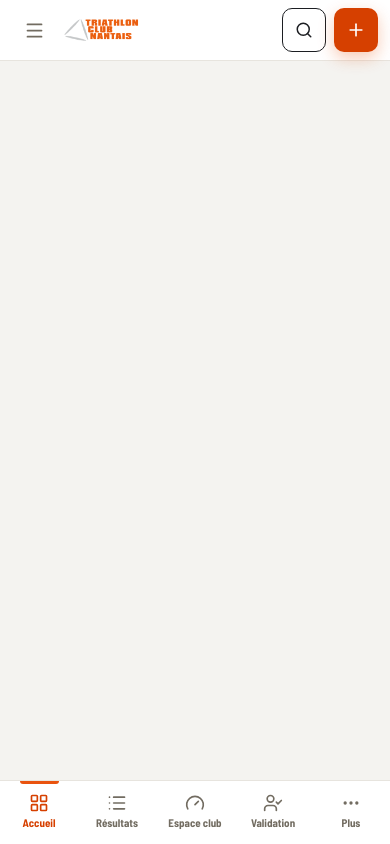
Test: AppNav — actions primaires › ne porte plus de carte d'athlète, ni au rail ni au tiroir, même athlète retenu et compte rattaché (#1828)
Expected: the text "Jean" is not shown
Click the button named "Ouvrir le menu" at (34,30), box [12,8,56,52]
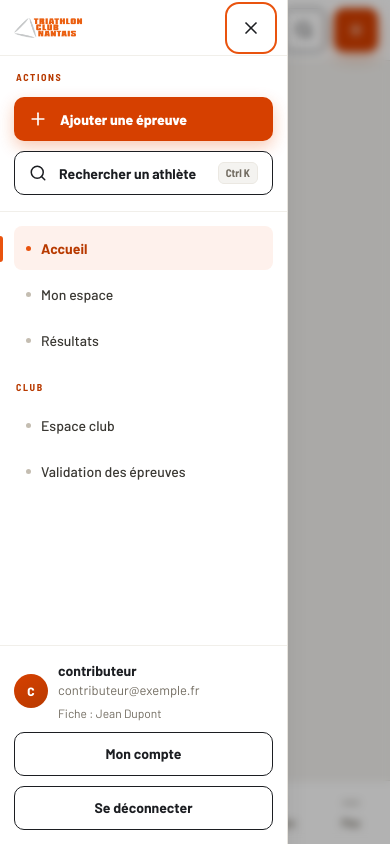
Expected: the button "Rechercher un athlète Ctrl K" is shown, [14,151,273,195]
